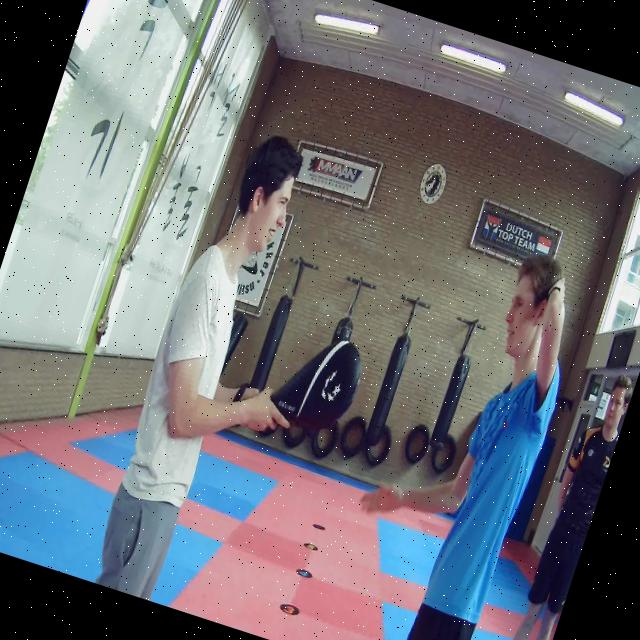paddle: (271, 339, 361, 428)
